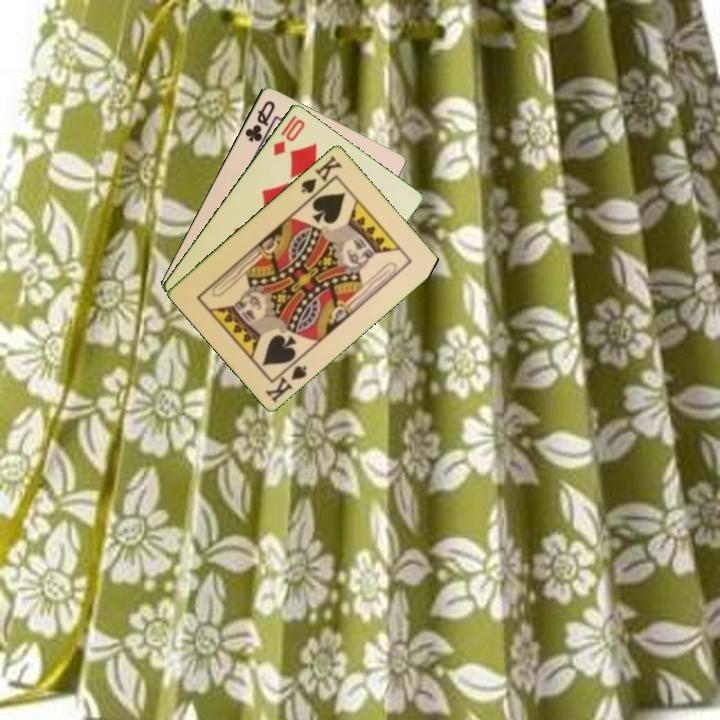10d: (270, 111, 308, 158)
Ks: (262, 354, 310, 405), (297, 151, 345, 201)
Qc: (241, 96, 278, 145)
